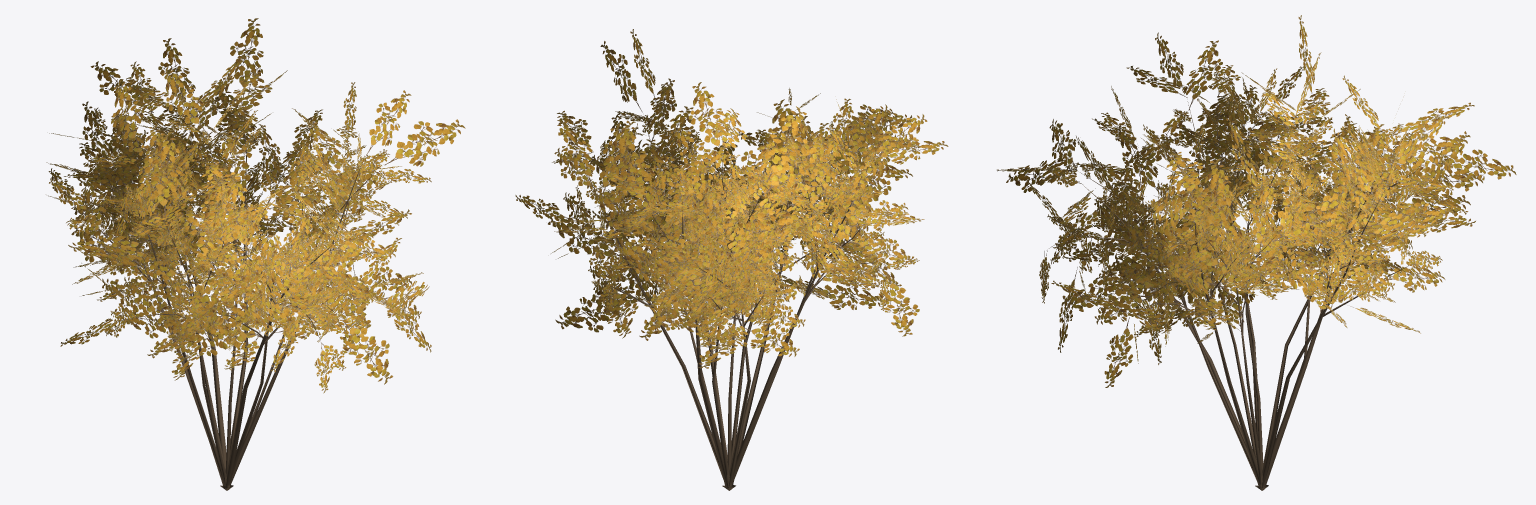
Rendered from bush2.glb.
3 renders of one model, left to right at view 1: azimuth 30°, elevation 25°; view 2: azimuth 150°, elevation 25°; view 3: azimuth 270°, elevation 25°, orthographic. The views are drawn at different scales.
Parts seen in each view (by area): view 1: Leaves_LOD0, Trunk_LOD0; view 2: Leaves_LOD0, Trunk_LOD0; view 3: Leaves_LOD0, Trunk_LOD0.
Boxes of the visible parts, box(x1,y1,x2,y2) form: Leaves_LOD0: box(46, 18, 465, 393); Trunk_LOD0: box(83, 108, 381, 490); Leaves_LOD0: box(515, 29, 948, 368); Trunk_LOD0: box(577, 109, 885, 490); Leaves_LOD0: box(997, 15, 1516, 387); Trunk_LOD0: box(1049, 92, 1415, 490).
Size of what is drawn, in the model's own units: 0.9629 by 1 by 1.09.
2 materials, 1 textured.
